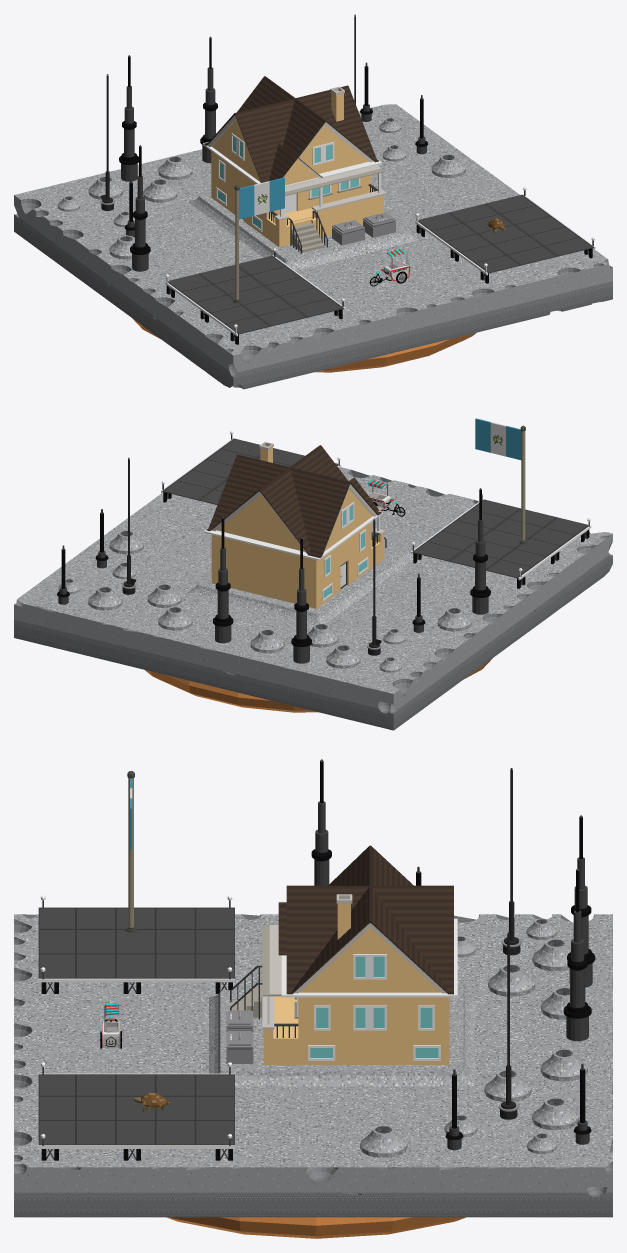
The picture shows the model from 3 angles, top to bottom: view 1: azimuth 30°, elevation 25°; view 2: azimuth 150°, elevation 25°; view 3: azimuth 270°, elevation 25°; orthographic projection. The views are drawn at different scales.
Parts seen in each view (by area): view 1: Cube.027, Cube.235, Cube.025, Cube.026, Cube.028, OBJRANDOM_GUATEMALAN_FLAG, UNDERGROUND_PIZZA, Cylinder.021, Cylinder.020, Cylinder.017, VEHICLES_SNOWBAL_BIKE, Cube.029 (+6 smaller); view 2: Cube.027, Cube.235, Cube.025, Cube.028, Cube.026, OBJRANDOM_GUATEMALAN_FLAG, UNDERGROUND_PIZZA, Cylinder.017, Cylinder.021, Cylinder.020, Cylinder.025, Cylinder.031 (+9 smaller); view 3: Cube.027, Cube.235, Cube.025, Cube.026, Cube.028, UNDERGROUND_PIZZA, Cylinder.017, Cylinder.020, Cylinder.021, Cylinder.033, Cylinder.031, Cylinder.029 (+10 smaller).
Part boxes in pixels (<box>): Cube.027: <box>14,104,612,389</box>; Cube.235: <box>203,76,386,253</box>; Cube.025: <box>165,248,345,344</box>; Cube.026: <box>415,187,595,283</box>; Cube.028: <box>189,192,418,270</box>; OBJRANDOM_GUATEMALAN_FLAG: <box>232,177,284,302</box>; UNDERGROUND_PIZZA: <box>132,318,476,372</box>; Cylinder.021: <box>130,145,150,271</box>; Cylinder.020: <box>119,55,138,181</box>; Cylinder.017: <box>200,36,217,162</box>; VEHICLES_SNOWBAL_BIKE: <box>369,248,409,286</box>; Cube.029: <box>332,220,364,245</box>; Cube.027: <box>14,467,612,730</box>; Cube.235: <box>204,441,386,608</box>; Cube.025: <box>411,492,591,588</box>; Cube.028: <box>187,544,413,625</box>; Cube.026: <box>161,431,341,504</box>; OBJRANDOM_GUATEMALAN_FLAG: <box>475,418,527,543</box>; UNDERGROUND_PIZZA: <box>145,658,492,712</box>; Cylinder.017: <box>213,517,233,643</box>; Cylinder.021: <box>470,488,490,614</box>; Cylinder.020: <box>291,537,311,663</box>; Cylinder.025: <box>437,607,471,631</box>; Cylinder.031: <box>88,586,122,610</box>; Cube.027: <box>14,914,612,1217</box>; Cube.235: <box>230,845,457,1064</box>; Cube.025: <box>38,895,234,993</box>; Cube.026: <box>38,1062,234,1160</box>; Cube.028: <box>209,990,474,1086</box>; UNDERGROUND_PIZZA: <box>166,1217,465,1238</box>; Cylinder.017: <box>563,868,591,1041</box>; Cylinder.020: <box>567,815,595,987</box>; Cylinder.021: <box>311,759,331,885</box>; Cylinder.033: <box>360,1125,407,1157</box>; Cylinder.031: <box>532,1097,579,1129</box>; Cylinder.029: <box>540,1048,587,1081</box>.
Bounding box in the file's own units: 4000 × 2011 × 4000.
45 materials, 4 textured.
